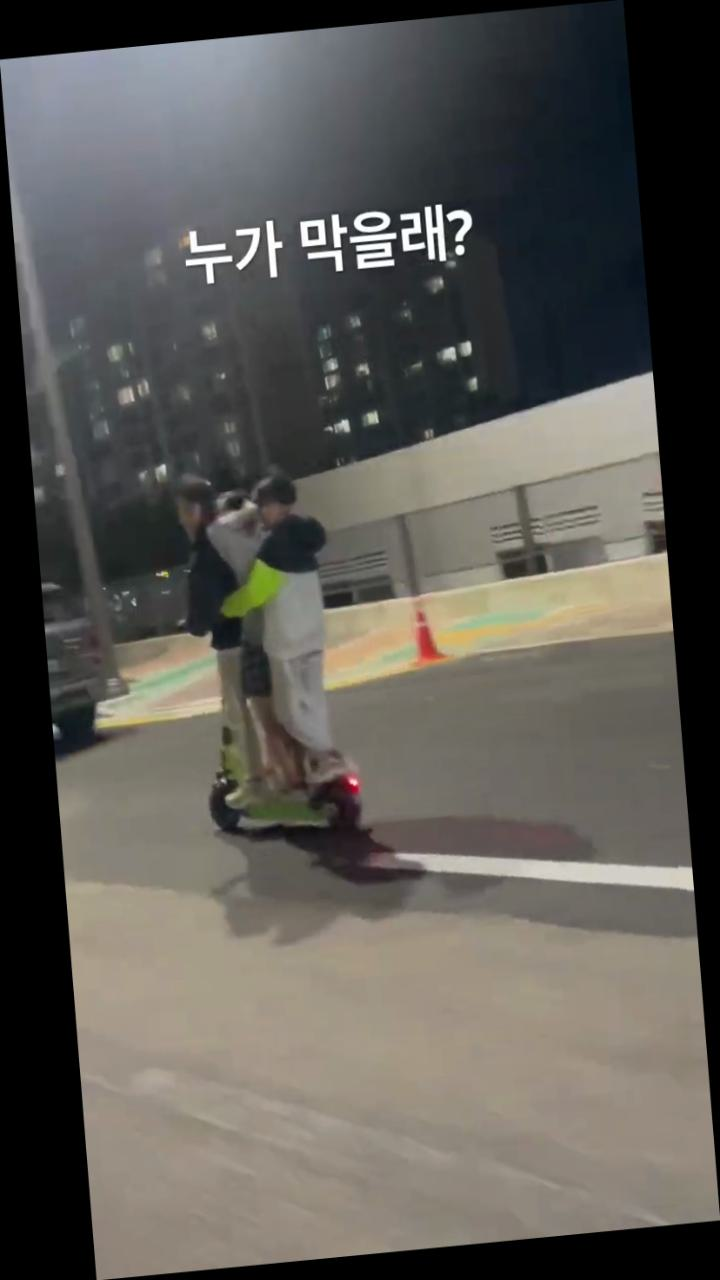multiple: (165, 458, 371, 853)
